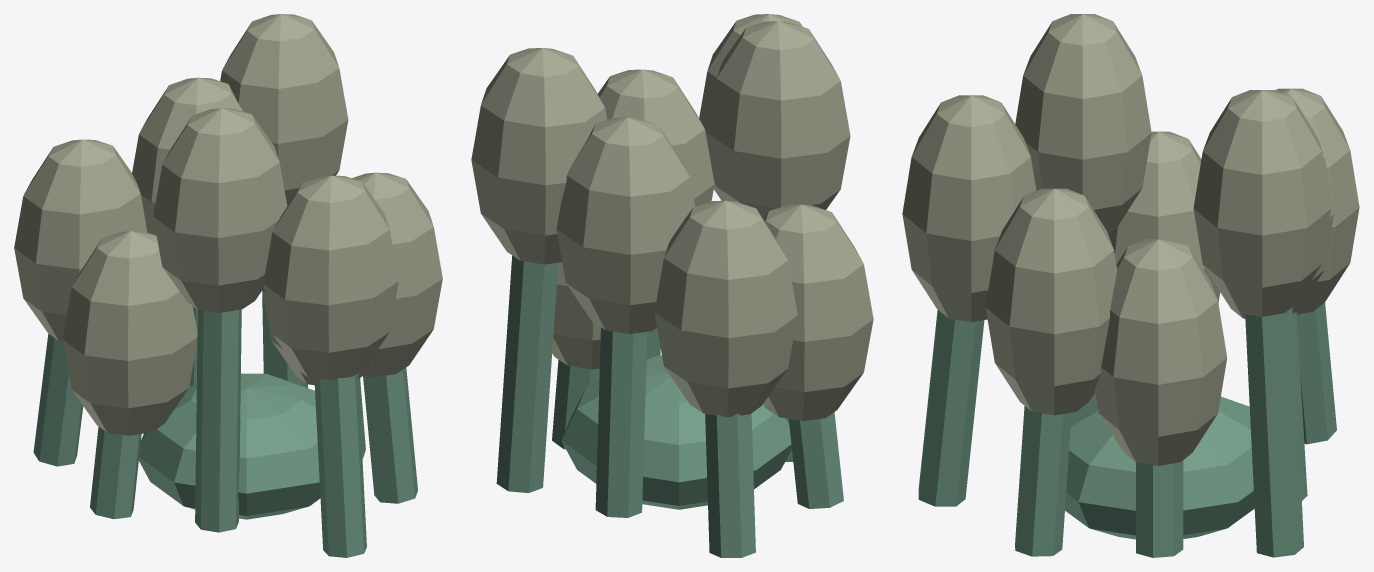
Rendered from lumemoss-weakened.glb.
3 renders of one model, left to right at view 1: azimuth 30°, elevation 25°; view 2: azimuth 150°, elevation 25°; view 3: azimuth 270°, elevation 25°, orthographic. The views are drawn at different scales.
Visible parts, largest first — view 1: lumemoss.sway-pivot; view 2: lumemoss.sway-pivot; view 3: lumemoss.sway-pivot.
Boxes of the visible parts, <box> form: lumemoss.sway-pivot: <box>14,14,442,557</box>; lumemoss.sway-pivot: <box>471,14,873,557</box>; lumemoss.sway-pivot: <box>902,14,1359,557</box>.
Bounding box in the file's own units: 0.3906 × 0.51 × 0.4413.
